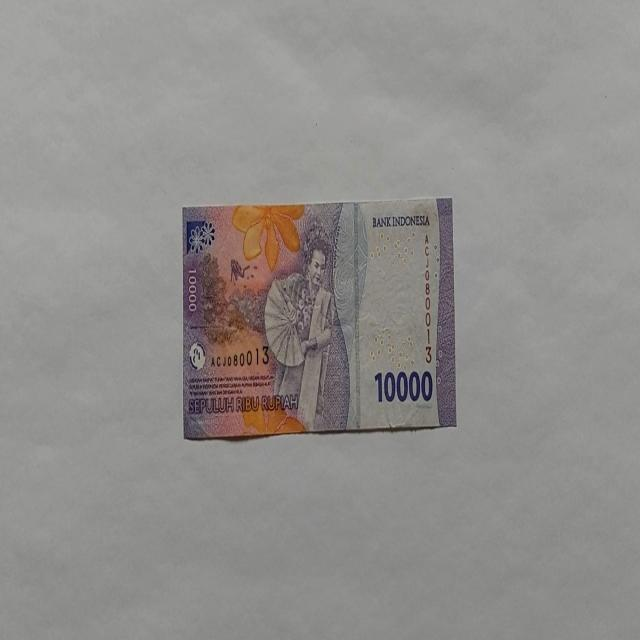sepuluh ribu rupiah: (181, 196, 456, 440), (263, 227, 351, 432)
